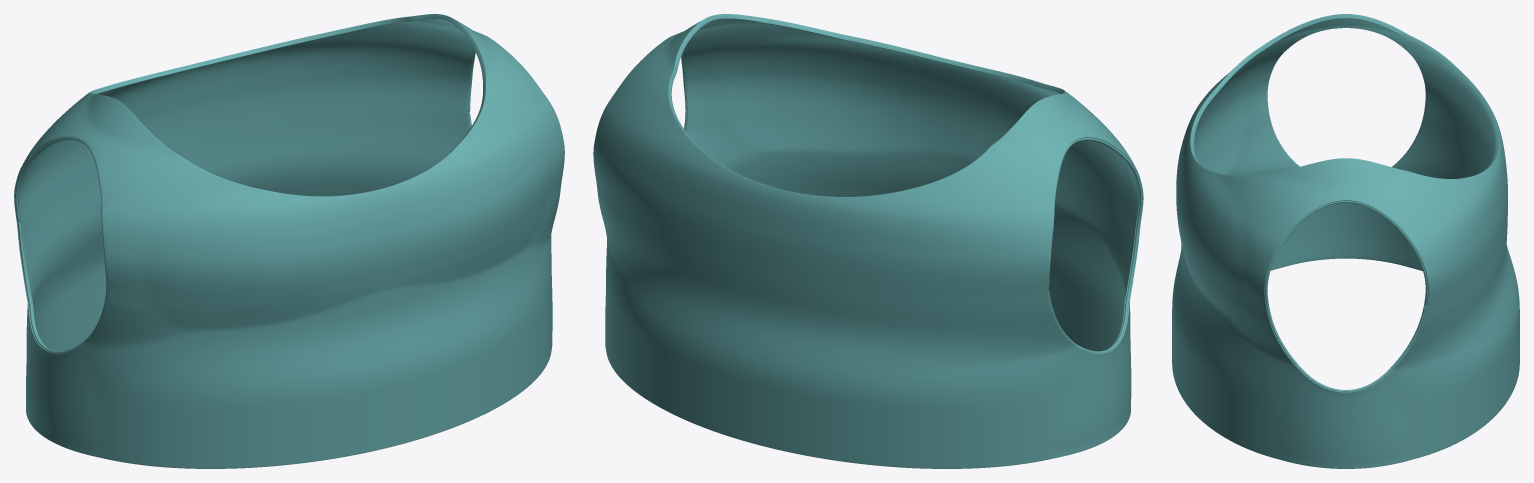
The model's file is Masculine-tank-top.glb.
3 views of the same model, side by side, from view 1: azimuth 30°, elevation 25°; view 2: azimuth 150°, elevation 25°; view 3: azimuth 270°, elevation 25° (orthographic). The views are drawn at different scales.
Visible parts, largest first — view 1: Clothing / Tank189, Tank / clean binding189 1 export; view 2: Clothing / Tank189, Tank / clean binding189 1 export; view 3: Clothing / Tank189, Tank / clean binding189 0 export.
Part boxes in pixels (x1,y1,x2,y2): Clothing / Tank189: [14, 14, 564, 468]; Tank / clean binding189 1 export: [15, 137, 106, 353]; Clothing / Tank189: [593, 14, 1143, 468]; Tank / clean binding189 1 export: [1048, 138, 1142, 353]; Clothing / Tank189: [1172, 14, 1519, 468]; Tank / clean binding189 0 export: [1265, 201, 1427, 391].
Size of the model in its own units: 0.6807 by 0.4134 by 0.4706.
